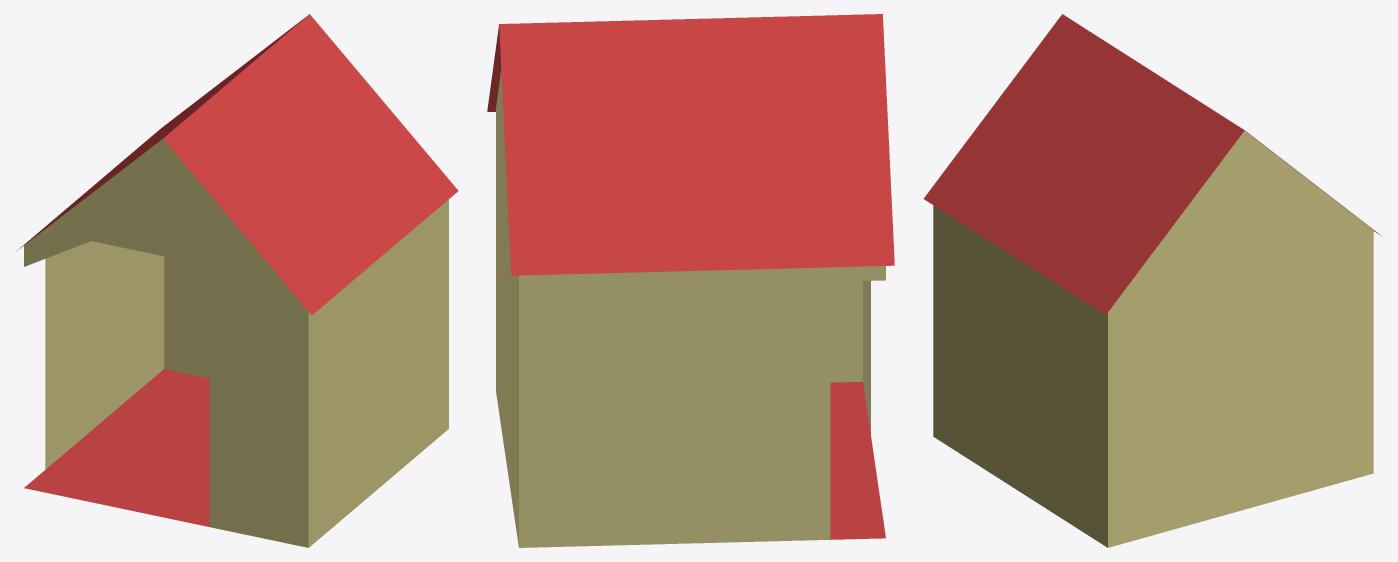
The picture shows the model from 3 angles, left to right: view 1: azimuth 30°, elevation 25°; view 2: azimuth 150°, elevation 25°; view 3: azimuth 270°, elevation 25°; orthographic projection. The views are drawn at different scales.
Size of the model in its own units: 16.09 by 16.12 by 14.8.
